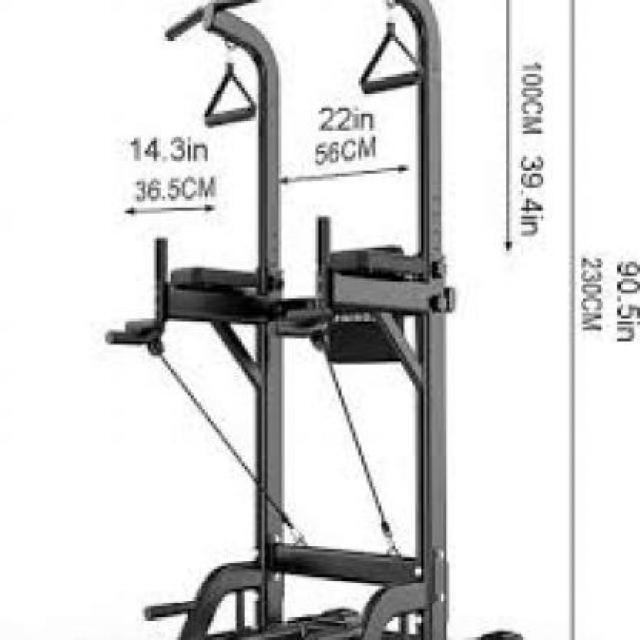chinning dipping: (103, 1, 460, 640)
